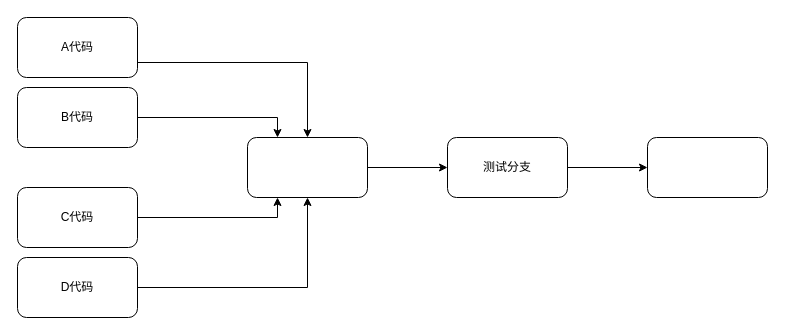
This 785x335 diagram has some shape labels left out. Here are the shapes that lost their labels. From the top down, the centre of each, then its label:
At [307,167]: "开发分支".
At [707,167]: "正式分支".
